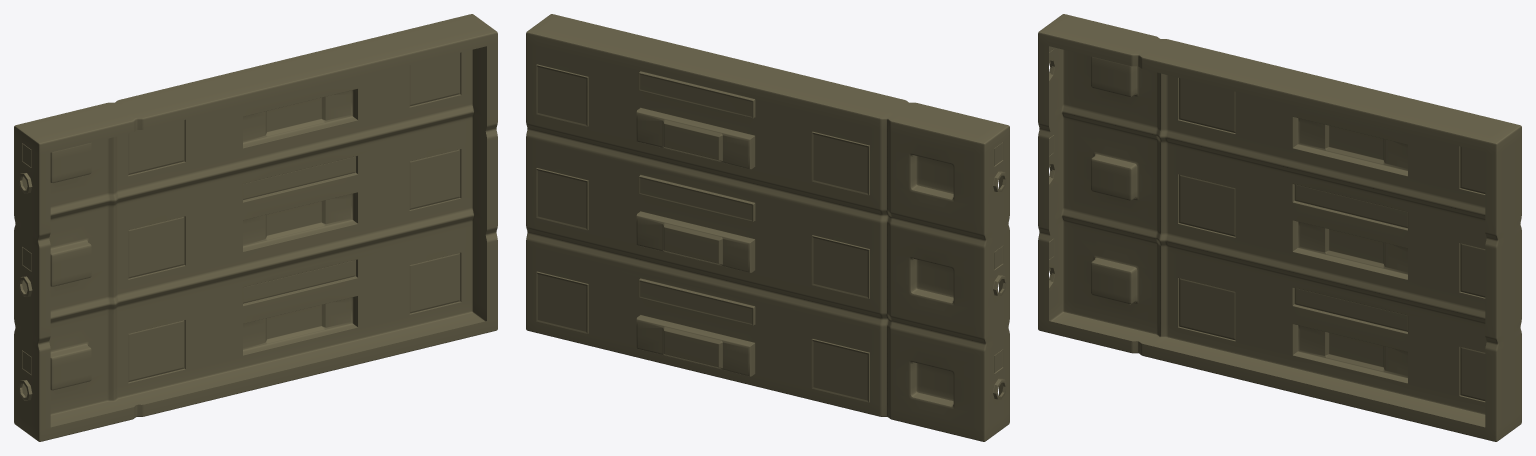
File: TableauFusible.fbx
The picture shows the model from 3 angles, left to right: view 1: azimuth 30°, elevation 25°; view 2: azimuth 150°, elevation 25°; view 3: azimuth 330°, elevation 25°; orthographic projection.
Parts seen in each view (by area): view 1: TableauFusible; view 2: TableauFusible; view 3: TableauFusible.
Part boxes in pixels (left/top/right/bottom): TableauFusible: left=14, top=14, right=497, bottom=441; TableauFusible: left=526, top=14, right=1009, bottom=441; TableauFusible: left=1038, top=14, right=1521, bottom=441.
Bounding box in the file's own units: 85.6 × 52.86 × 10.23.
